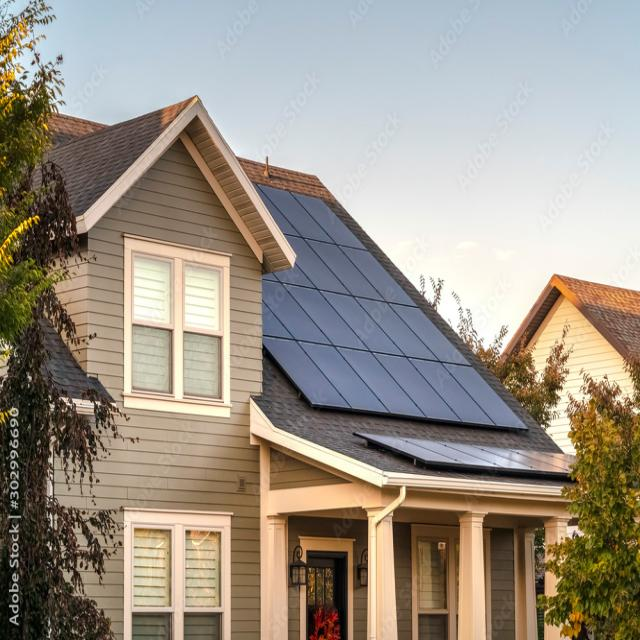clean-solar-panel: (259, 187, 525, 429)
